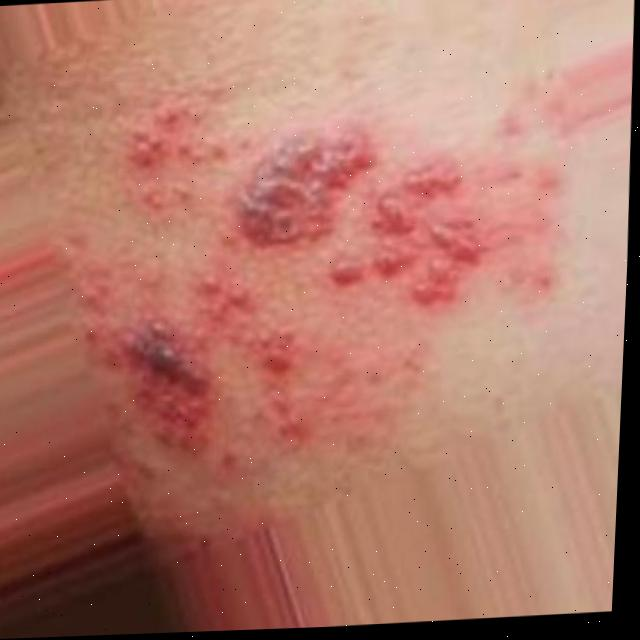Shingles: (233, 109, 483, 308), (194, 263, 303, 453), (103, 309, 222, 462), (121, 91, 225, 218)
